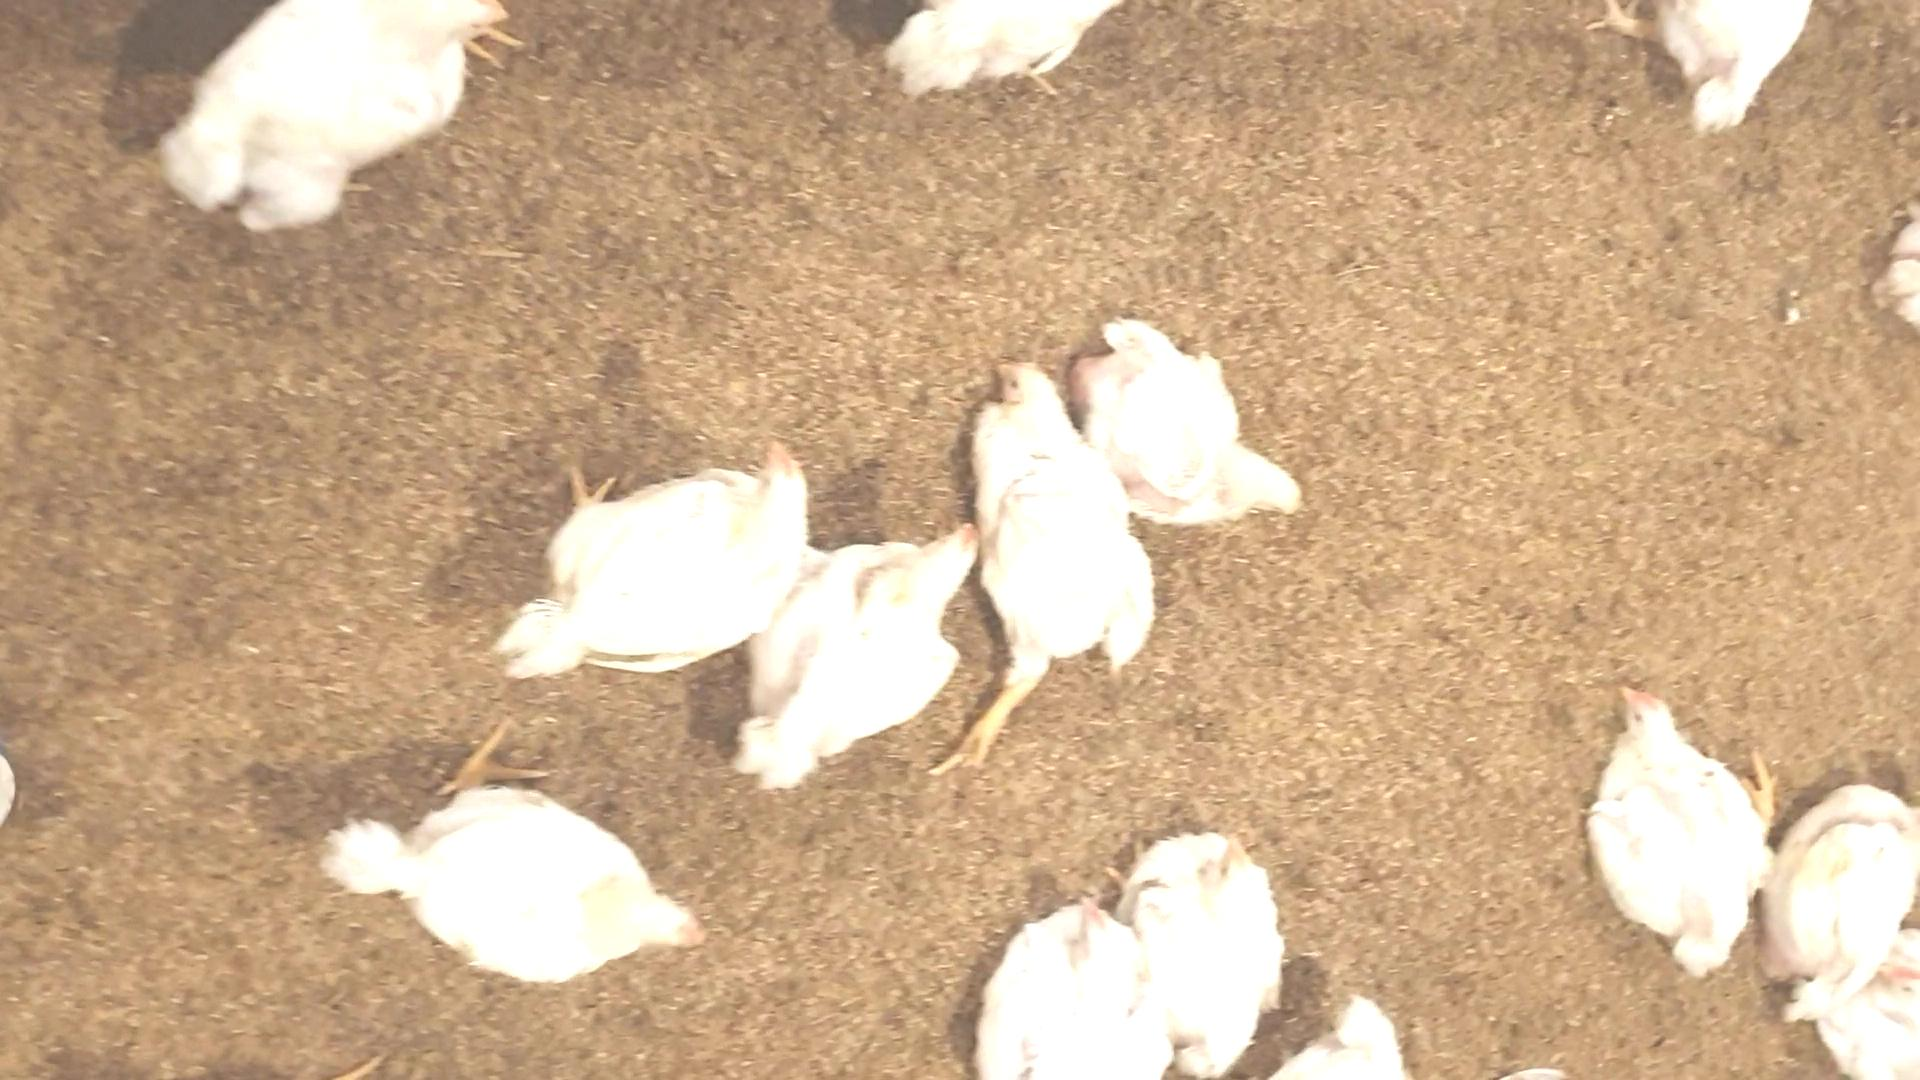Pollos: (392, 771, 709, 980), (940, 353, 1155, 651), (746, 520, 980, 793), (539, 443, 791, 675), (1580, 680, 1768, 973), (1102, 309, 1300, 524), (1125, 825, 1296, 1062), (982, 906, 1184, 1076)
